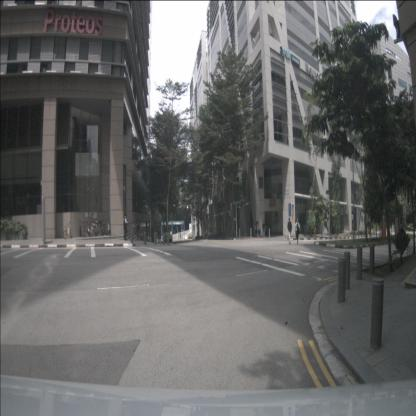human-pedestrian-adult: (123, 213, 129, 240), (287, 217, 292, 244), (295, 219, 300, 245), (136, 219, 141, 241), (262, 221, 266, 237), (257, 221, 260, 238), (255, 221, 258, 237)
vehicle-bicycle: (63, 220, 72, 240)
